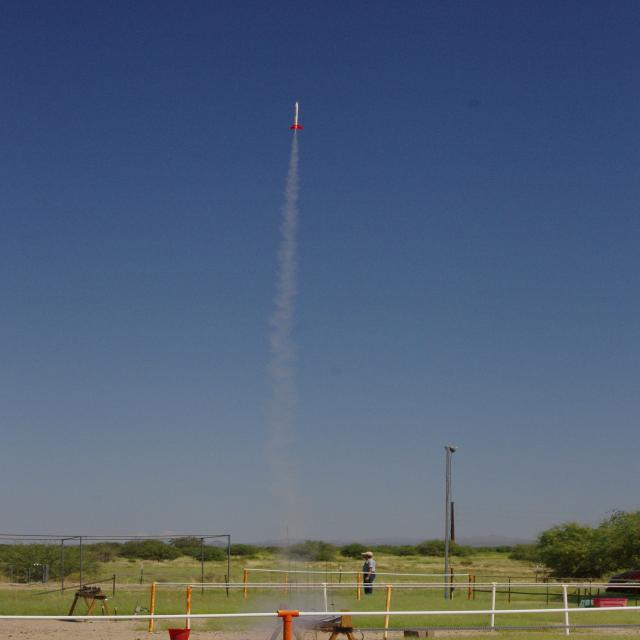Rocket: (290, 101, 304, 133)
